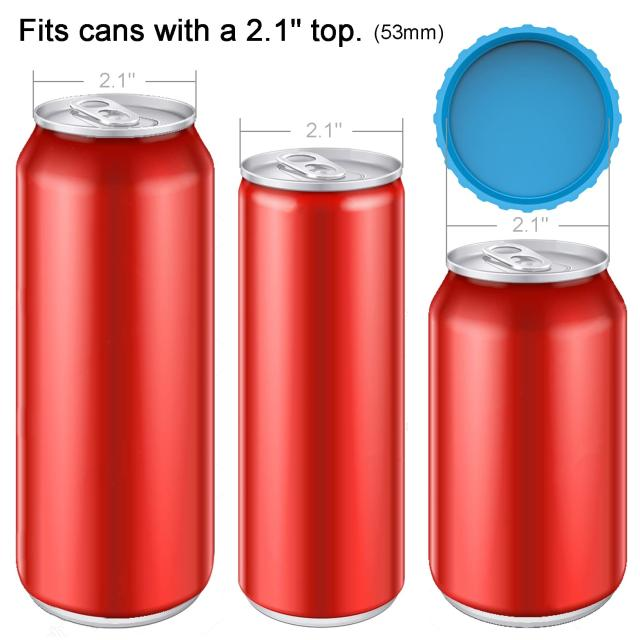soda_can: (3, 53, 640, 640), (16, 74, 234, 622), (229, 81, 431, 640), (415, 221, 640, 640)
